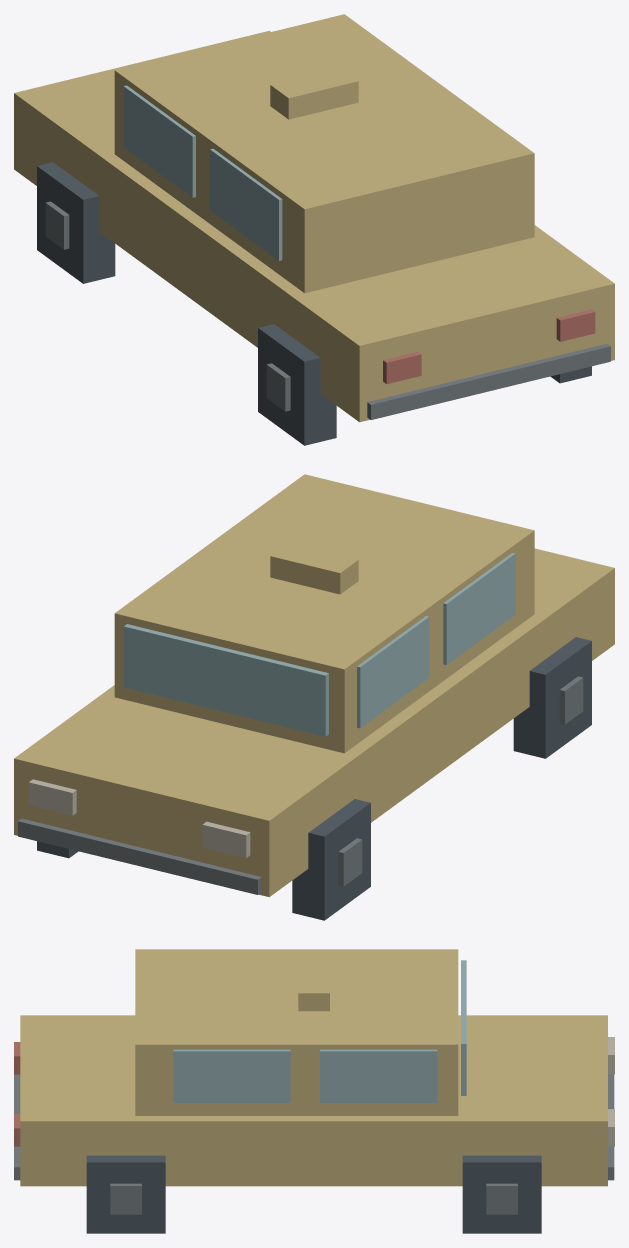
The model's file is taxi.glb.
3 renders of one model, top to bottom at view 1: azimuth 30°, elevation 25°; view 2: azimuth 150°, elevation 25°; view 3: azimuth 270°, elevation 25°, orthographic. The views are drawn at different scales.
Visible parts, largest first — view 1: body, wheel_-0.875_-1.3119999999999998, wheel_-0.875_1.3119999999999998; view 2: body, wheel_-0.875_-1.3119999999999998, wheel_-0.875_1.3119999999999998; view 3: body, wheel_0.875_-1.3119999999999998, wheel_0.875_1.3119999999999998.
Part boxes in pixels (<box>): body: <box>14,14,614,422</box>; wheel_-0.875_-1.3119999999999998: <box>37,162,115,283</box>; wheel_-0.875_1.3119999999999998: <box>258,324,336,445</box>; body: <box>14,474,614,897</box>; wheel_-0.875_-1.3119999999999998: <box>292,799,370,920</box>; wheel_-0.875_1.3119999999999998: <box>513,637,591,758</box>; body: <box>14,949,614,1186</box>; wheel_0.875_-1.3119999999999998: <box>462,1155,541,1233</box>; wheel_0.875_1.3119999999999998: <box>86,1155,165,1233</box>.
Size of the model in its own units: 2.04 by 1.51 by 4.19.
